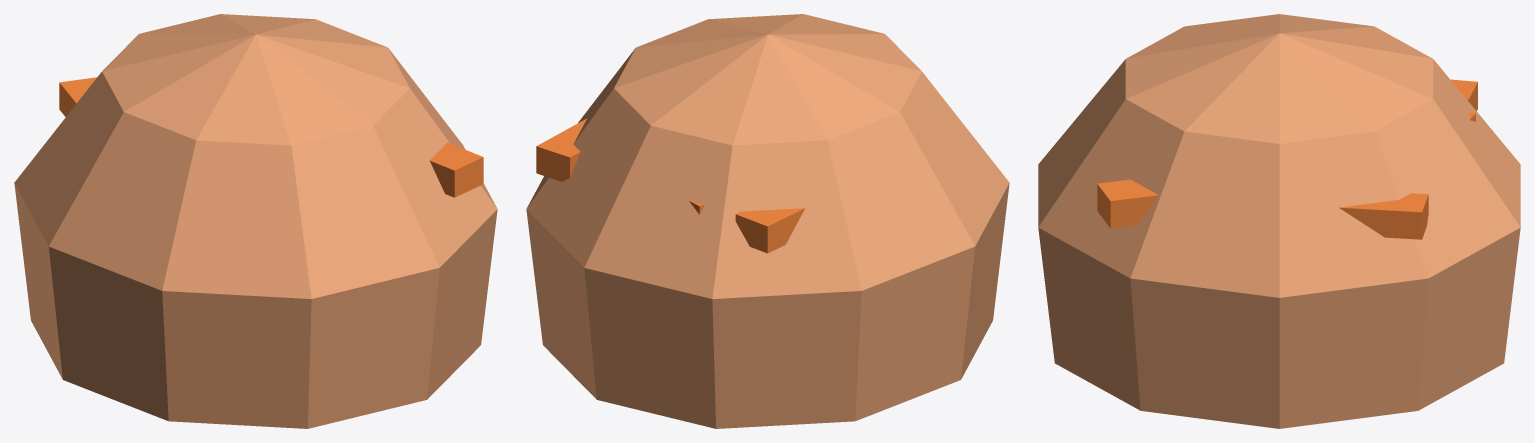
Rendered from env_r15_brain_coral.glb.
3 views of the same model, side by side, from view 1: azimuth 30°, elevation 25°; view 2: azimuth 150°, elevation 25°; view 3: azimuth 270°, elevation 25° (orthographic).
Parts seen in each view (by area): view 1: env_r15_brain_coral; view 2: env_r15_brain_coral; view 3: env_r15_brain_coral.
Part boxes in pixels (x1,y1,x2,y2): env_r15_brain_coral: (14,14,497,428); env_r15_brain_coral: (526,14,1009,428); env_r15_brain_coral: (1038,14,1520,428).
Bounding box in the file's own units: 1.6 × 1.1 × 1.6.
Materials: 1 (1 with a texture image).
